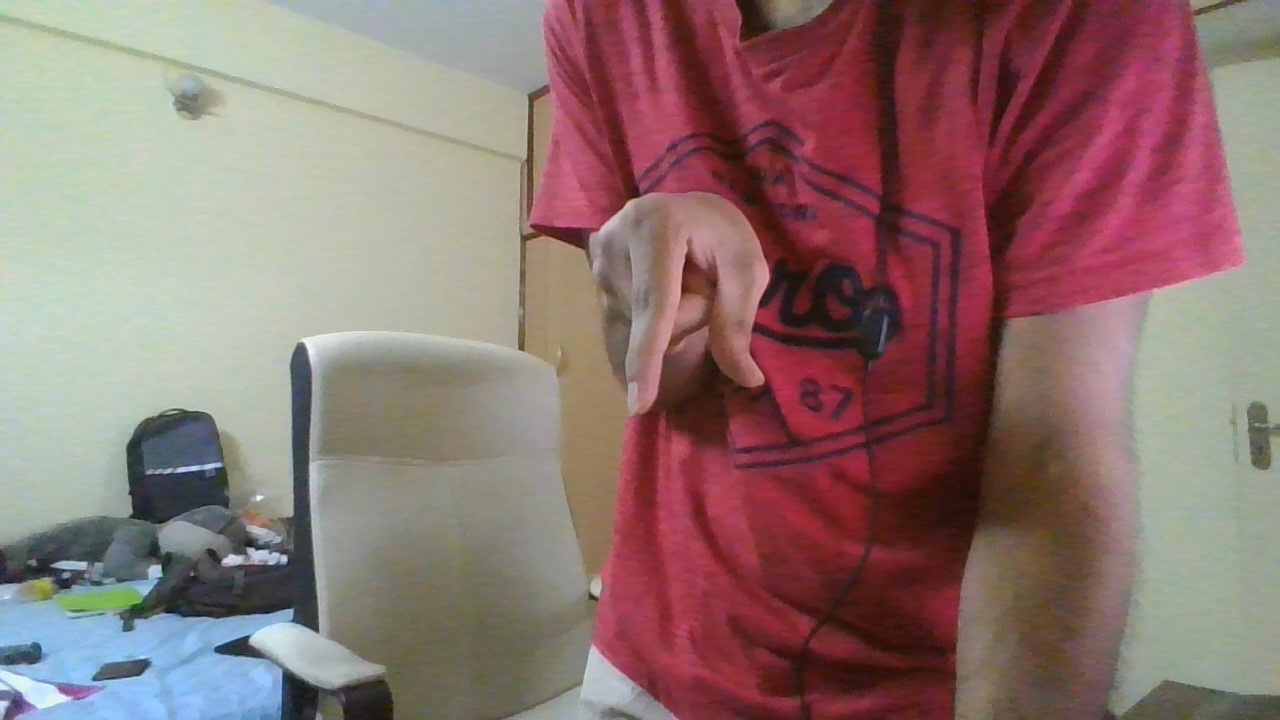q: (584, 188, 775, 422)
